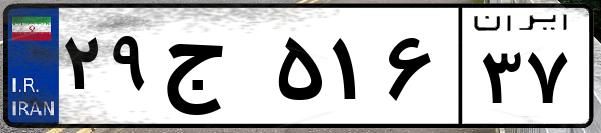1: (330, 28, 385, 110)
2: (57, 26, 110, 100)
3: (475, 38, 525, 113)
5: (270, 28, 330, 110)
6: (385, 28, 445, 110)
7: (525, 38, 570, 115)
9: (110, 28, 158, 98)
ج: (158, 20, 270, 120)
